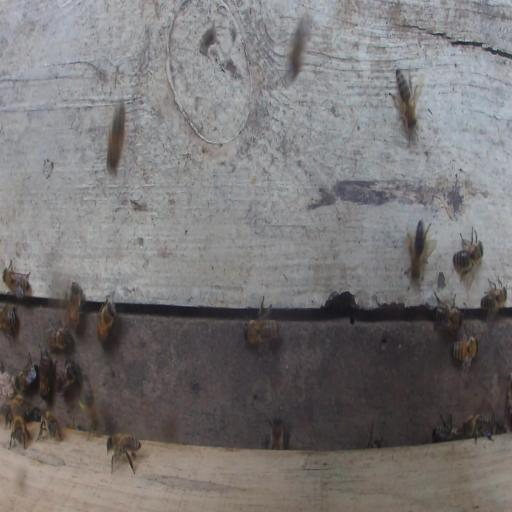bee: (392, 62, 420, 132), (452, 226, 483, 281), (106, 431, 142, 475), (243, 312, 283, 350), (407, 220, 431, 279), (107, 97, 125, 173), (434, 292, 466, 333), (3, 259, 31, 300), (96, 293, 117, 345), (10, 352, 36, 394), (451, 335, 479, 374), (462, 411, 494, 444), (79, 376, 98, 431), (480, 275, 507, 312), (43, 318, 74, 350), (38, 347, 55, 400), (432, 413, 462, 442), (66, 280, 82, 331), (37, 410, 63, 441), (57, 358, 78, 396), (8, 414, 29, 449), (0, 304, 18, 341), (269, 416, 284, 450), (23, 406, 42, 422), (78, 317, 79, 321)
